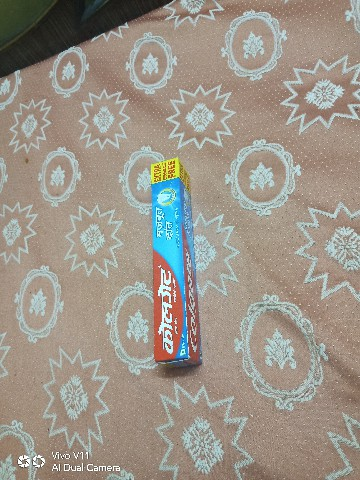colgatetoothpaste big: (141, 152, 214, 395)
